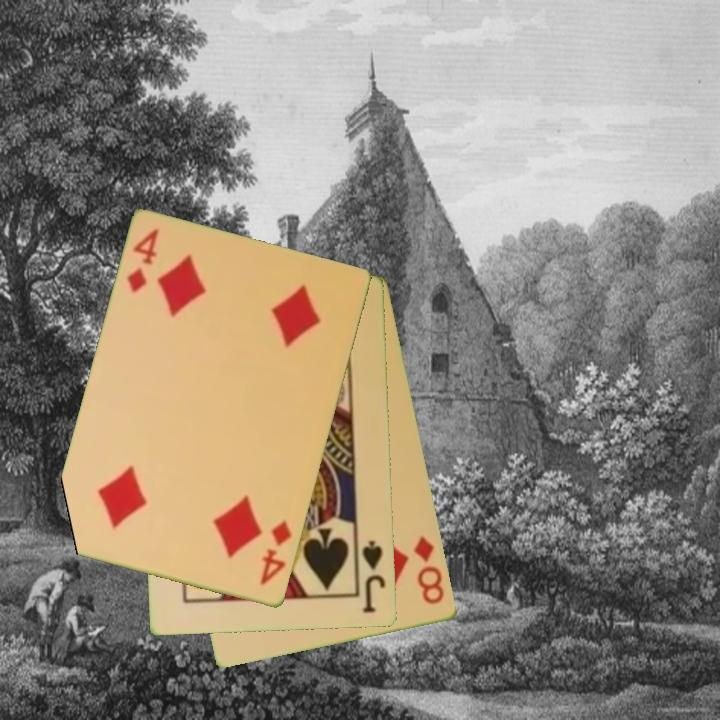4d: (123, 225, 162, 296), (257, 517, 295, 589)
8d: (411, 533, 448, 608)
Js: (359, 538, 389, 616)
